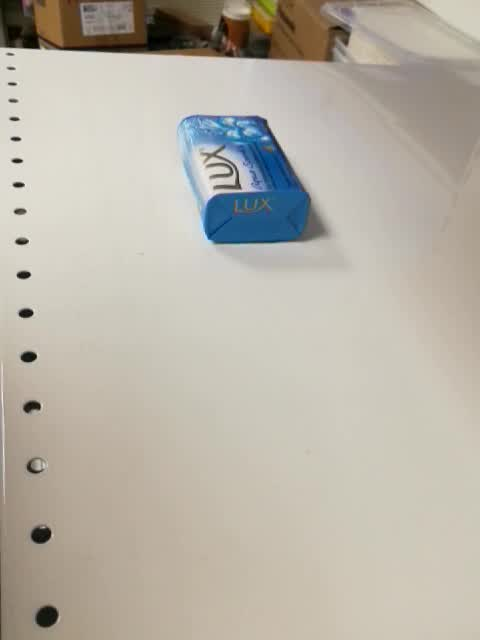soap: (175, 114, 313, 246)
